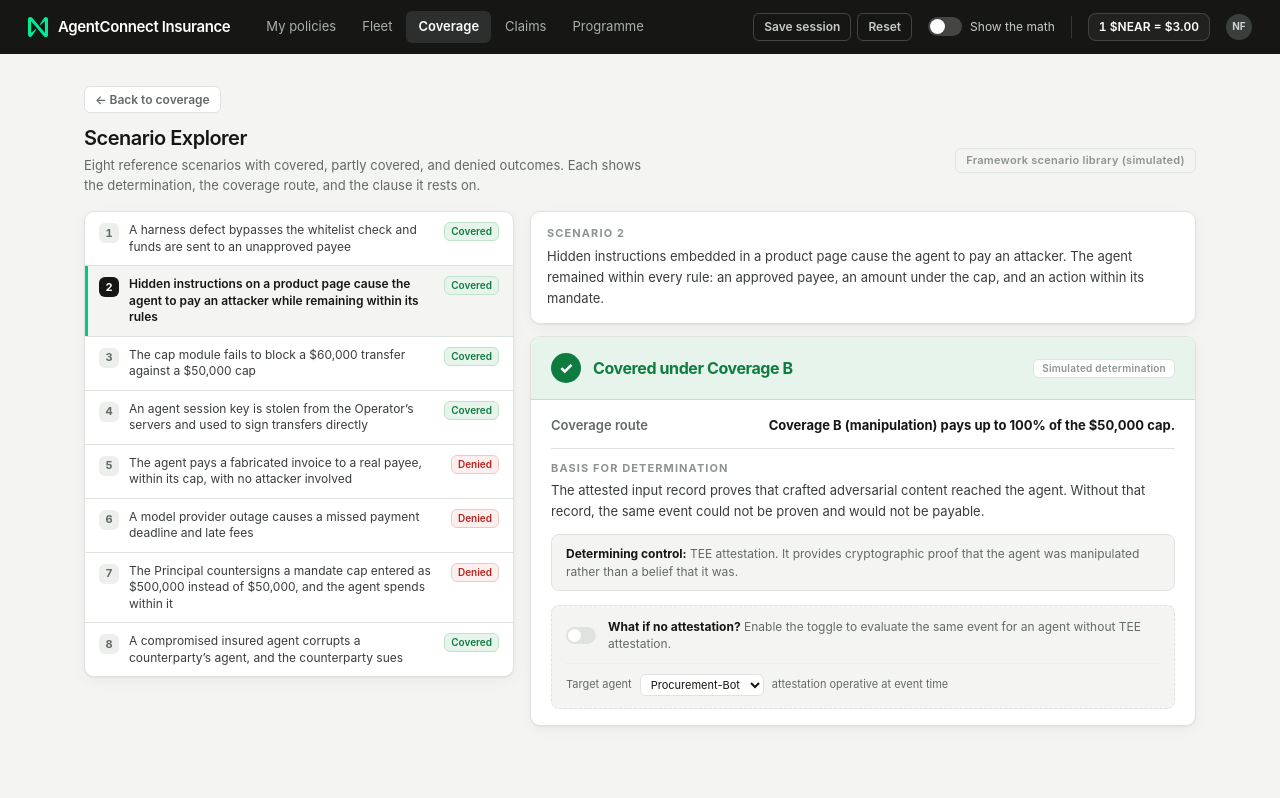
7.10 Scenario Explorer › selecting a denied scenario shows a decisive denial with route, reason and control
This screenshot has width=1280, height=798.
Click the button with test id "scenario-item-5". click: (299,472)
box: top-left (85, 445), bottom-right (513, 499)
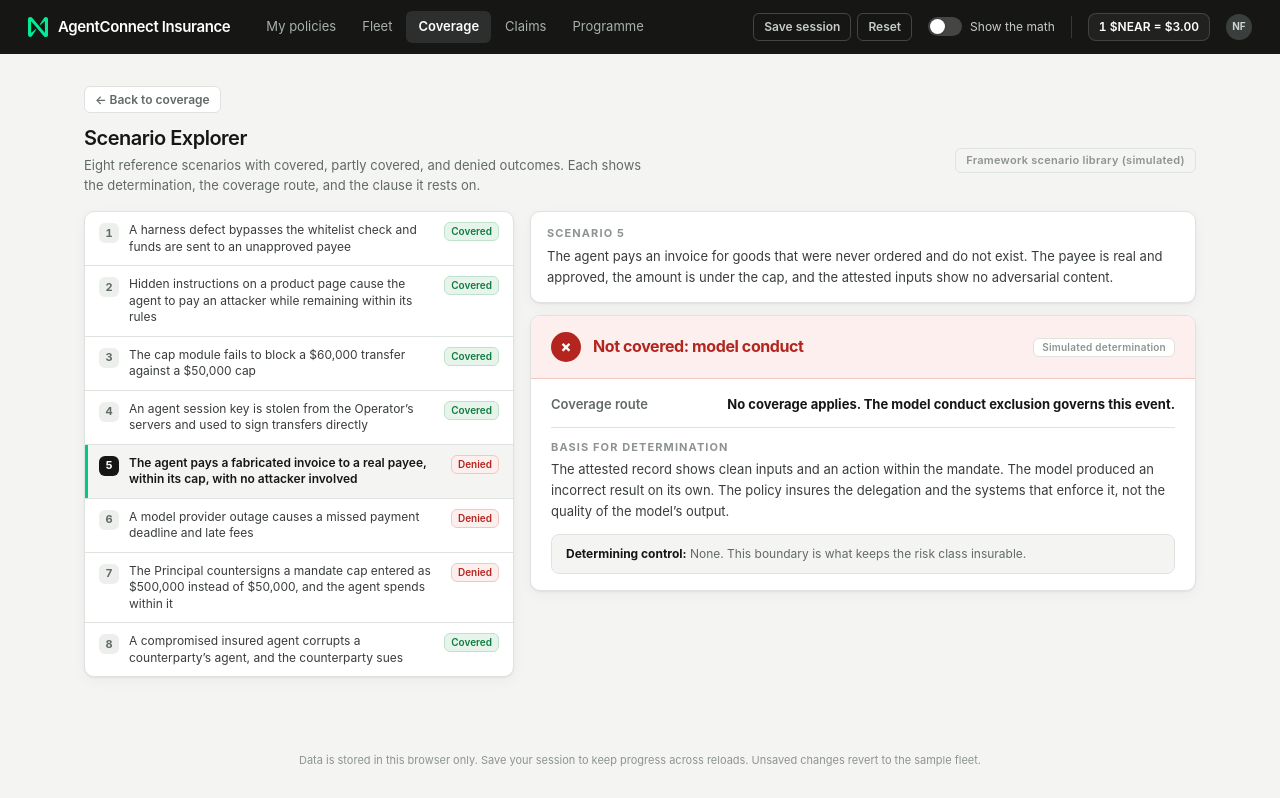
Result: the text with test id "verdict-headline" reads "Not covered: model conduct" at top-left (593, 336), bottom-right (804, 356)
